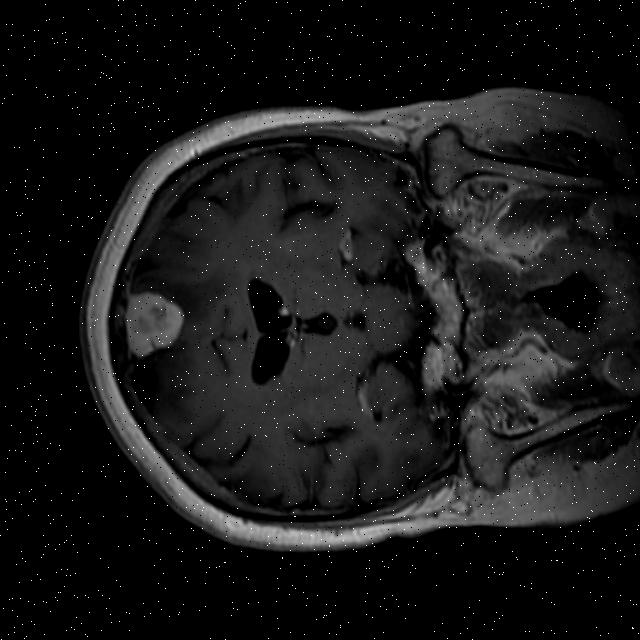Meningioma: (115, 282, 192, 361)
Pituitary: (423, 274, 469, 348)
